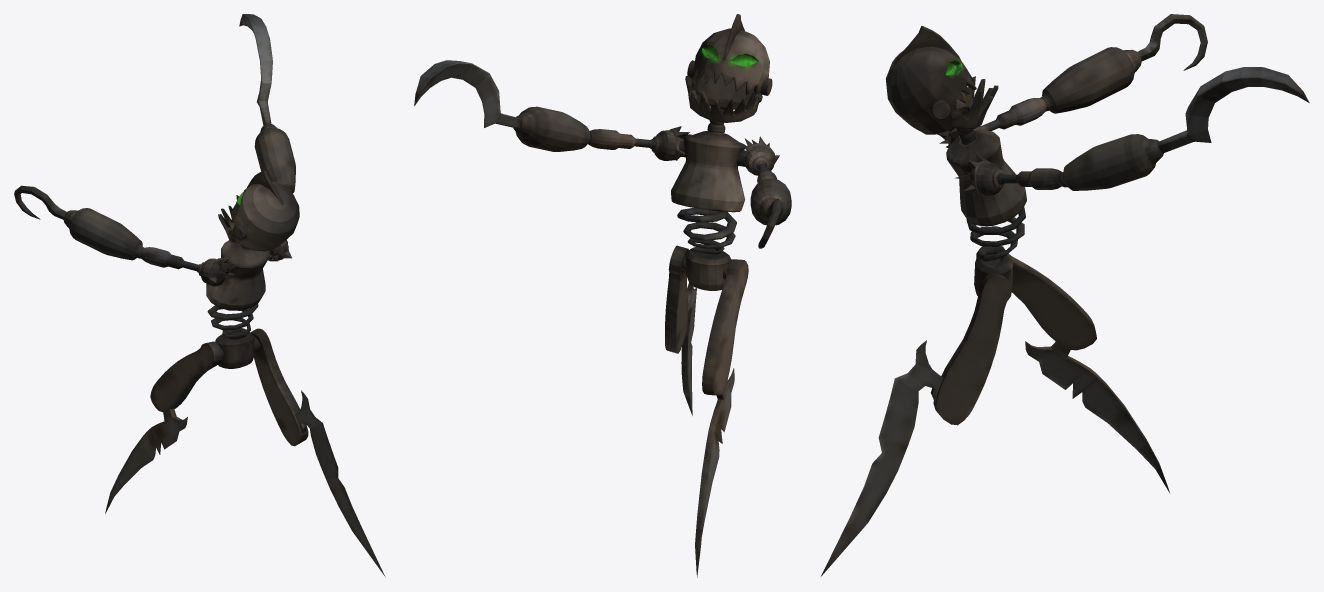
The picture shows the model from 3 angles, left to right: view 1: azimuth 30°, elevation 25°; view 2: azimuth 150°, elevation 25°; view 3: azimuth 270°, elevation 25°; orthographic projection. The views are drawn at different scales.
Parts seen in each view (by area): view 1: Assembled_Plane.008; view 2: Assembled_Plane.008; view 3: Assembled_Plane.008.
Part boxes in pixels (x1,y1,x2,y2): Assembled_Plane.008: [14, 14, 385, 577]; Assembled_Plane.008: [414, 14, 791, 577]; Assembled_Plane.008: [821, 14, 1309, 576].
Bounding box in the file's own units: 3.23 × 4.82 × 3.97.
